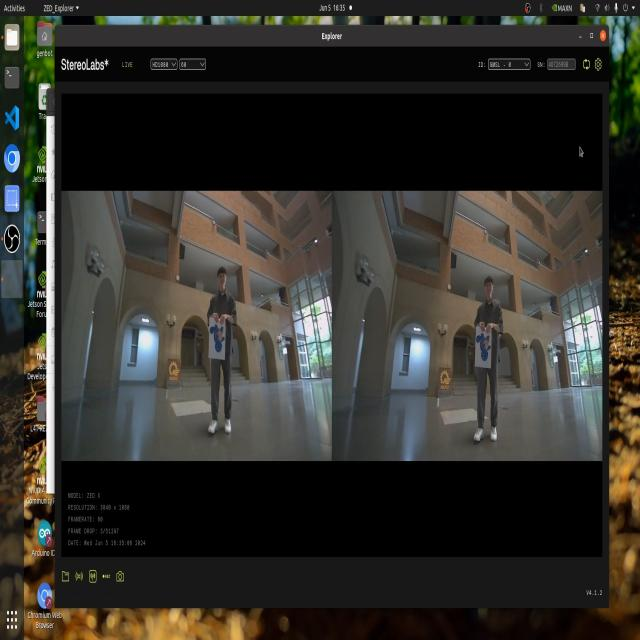blue: (205, 308, 233, 361), (473, 332, 494, 367)
